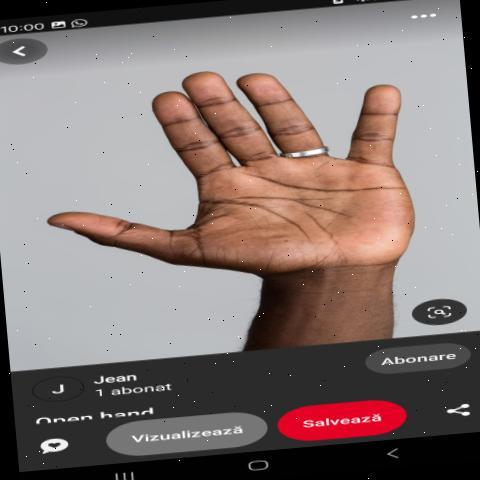Hands: (22, 43, 480, 312)
